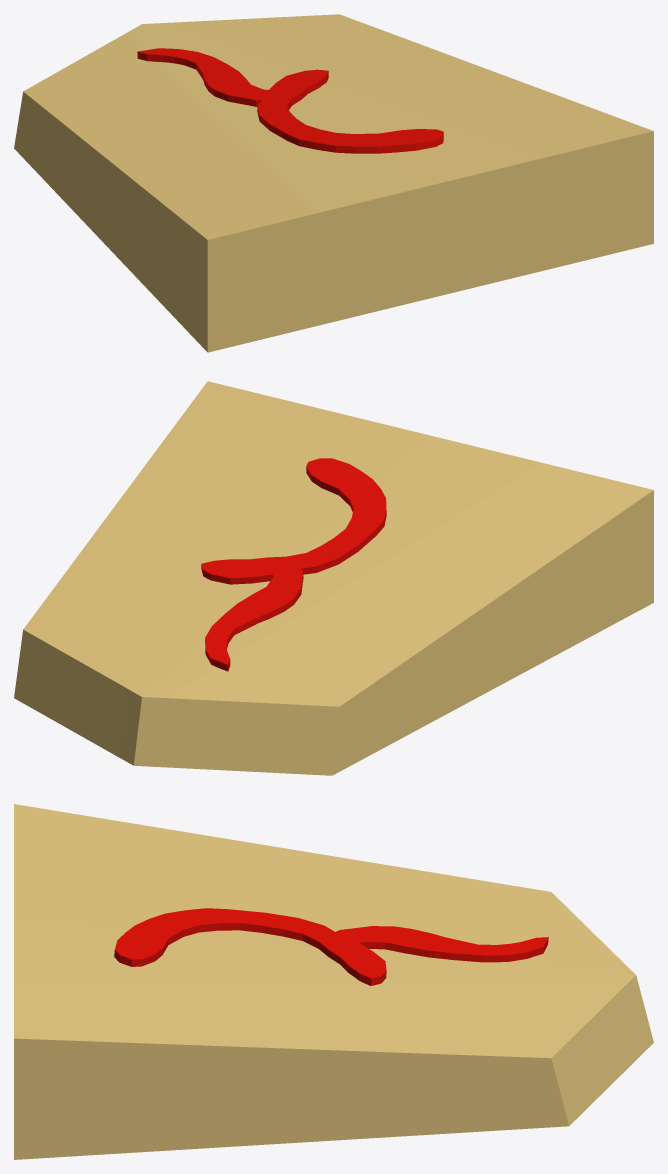
File: PionDor.fbx
The picture shows the model from 3 angles, top to bottom: view 1: azimuth 30°, elevation 25°; view 2: azimuth 150°, elevation 25°; view 3: azimuth 270°, elevation 25°; orthographic projection. The views are drawn at different scales.
Visible parts, largest first — view 1: PionDor; view 2: PionDor; view 3: PionDor.
Part boxes in pixels (x1=…): PionDor: x1=14, y1=14, x2=653, y2=352; PionDor: x1=14, y1=381, x2=653, y2=775; PionDor: x1=14, y1=804, x2=653, y2=1159.
Size of the model in its own units: 63.4 by 73.1 by 15.3.
